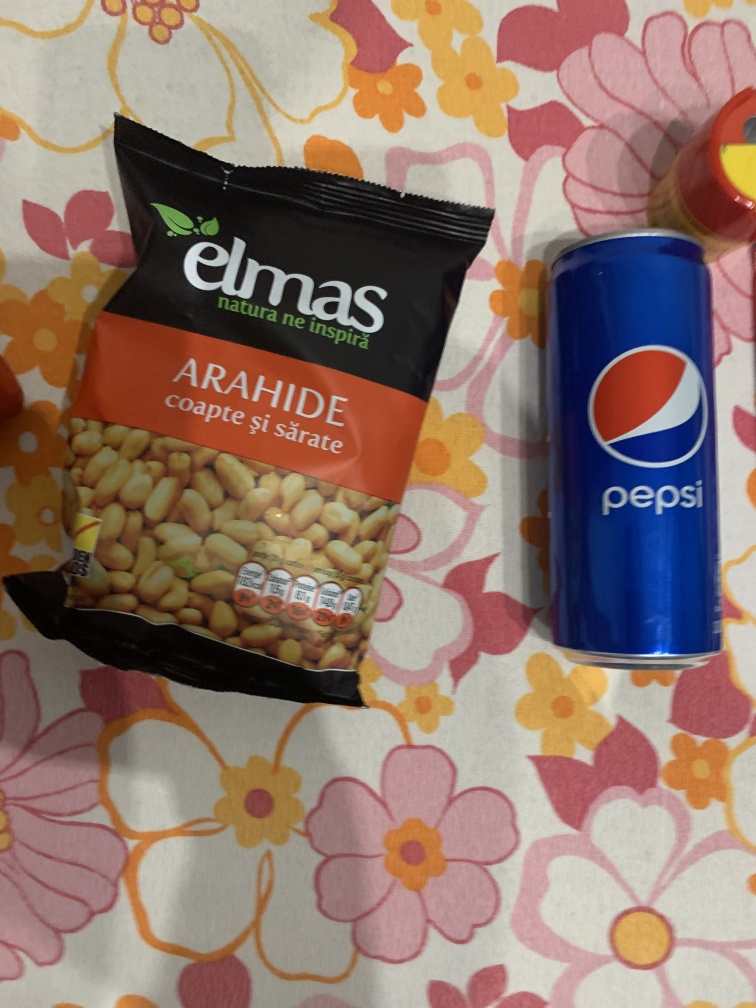peanuts: (21, 112, 499, 719)
pepsi: (545, 229, 730, 676)
